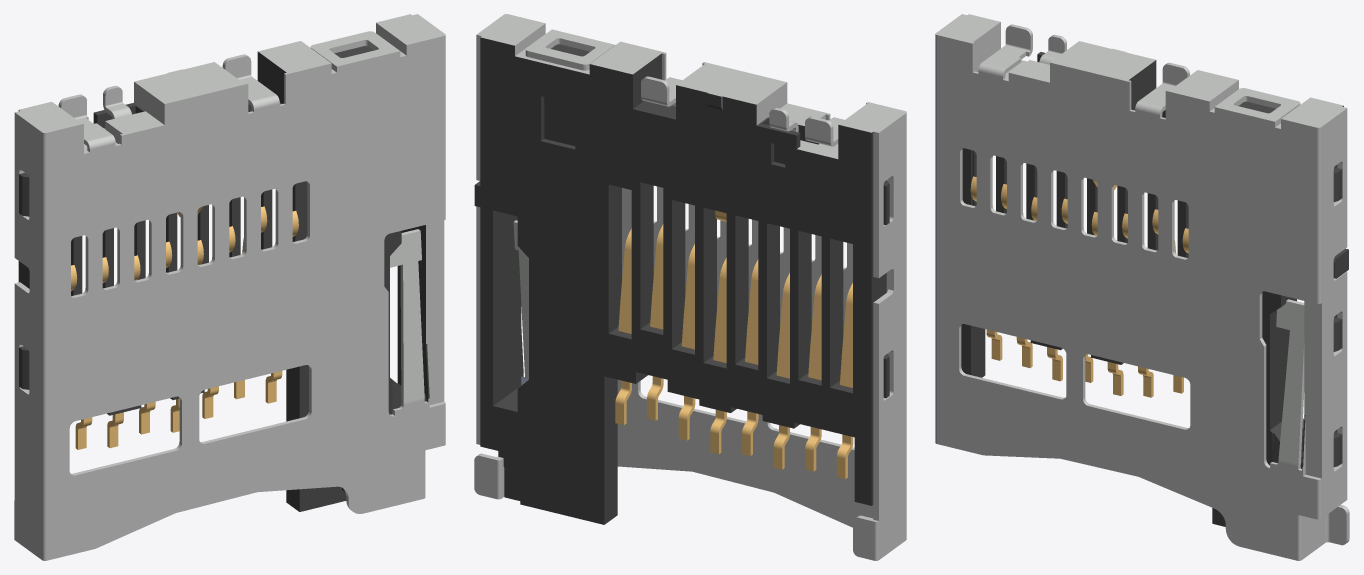
The model's file is microSD-192110a37242.glb.
3 views of the same model, side by side, from view 1: azimuth 30°, elevation 25°; view 2: azimuth 150°, elevation 25°; view 3: azimuth 330°, elevation 25° (orthographic). The views are drawn at different scales.
Parts seen in each view (by area): view 1: material2, material4, material3, material1; view 2: material4, material2, material1, material3; view 3: material2, material4, material3, material1.
Boxes of the visible parts, box(x1,y1,x2,y2) form: material2: box(14, 14, 445, 560); material4: box(18, 46, 429, 511); material3: box(390, 229, 427, 416); material1: box(71, 206, 298, 449); material4: box(474, 37, 889, 524); material2: box(474, 14, 906, 560); material1: box(615, 210, 853, 479); material3: box(513, 103, 866, 377); material2: box(935, 14, 1349, 560); material4: box(961, 52, 1348, 526); material3: box(1270, 299, 1304, 470); material1: box(970, 176, 1188, 397).
Size of the model in its own units: 14.1 by 15.2 by 1.88.
